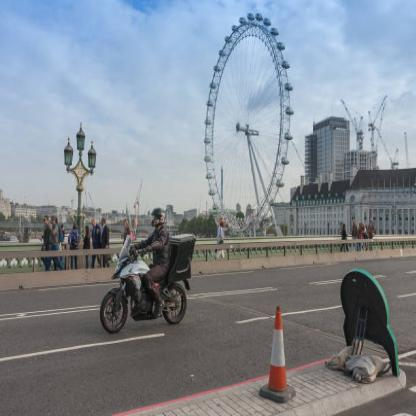Motorcycle: (101, 246, 190, 342)
